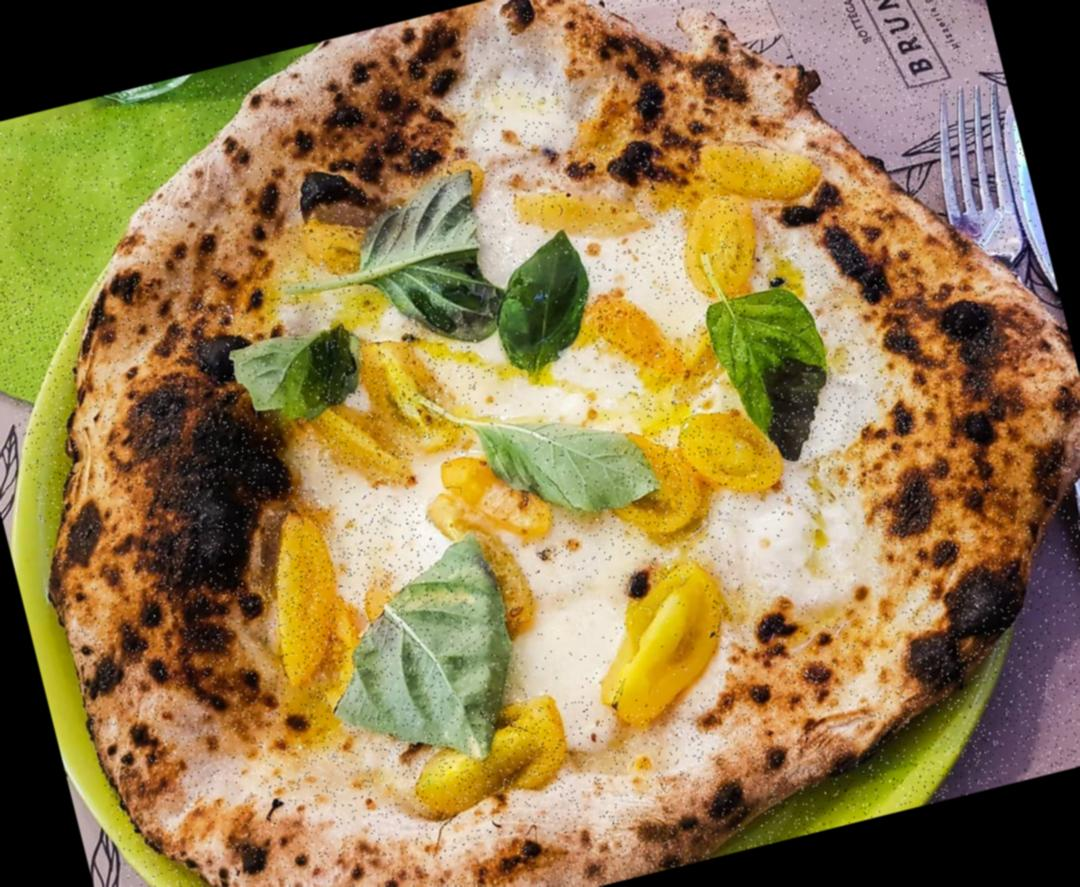Basil: (287, 525, 529, 782), (459, 365, 659, 532), (301, 182, 500, 341), (691, 274, 841, 454), (450, 223, 605, 370), (228, 306, 377, 421)
Cheese: (727, 492, 899, 638), (462, 50, 586, 178), (476, 349, 622, 447), (506, 526, 638, 616), (514, 607, 606, 709), (341, 496, 428, 588)
Pizza: (0, 0, 1080, 887)
Tomatoes: (378, 700, 576, 826), (570, 570, 728, 718), (304, 336, 454, 480), (255, 509, 374, 679), (573, 268, 700, 397), (418, 441, 550, 563), (672, 186, 777, 328), (670, 400, 792, 522), (522, 169, 644, 262), (694, 125, 816, 208), (616, 437, 706, 533), (286, 208, 368, 282)
